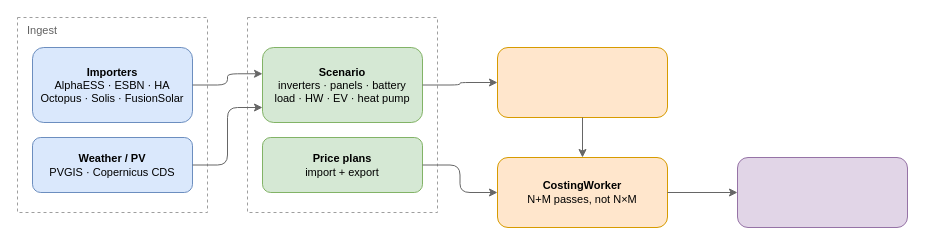
Some shapes in this 925 by 245 pixel diagram are drawn without their labels. The box of each missing label's shape, as (x1, y1, x2, y2) in pixels:
Compare / Dashboard: (736, 156, 908, 228)
Model: (246, 16, 438, 212)
SimulationWorker 8760 hourly rows: (496, 46, 668, 118)
